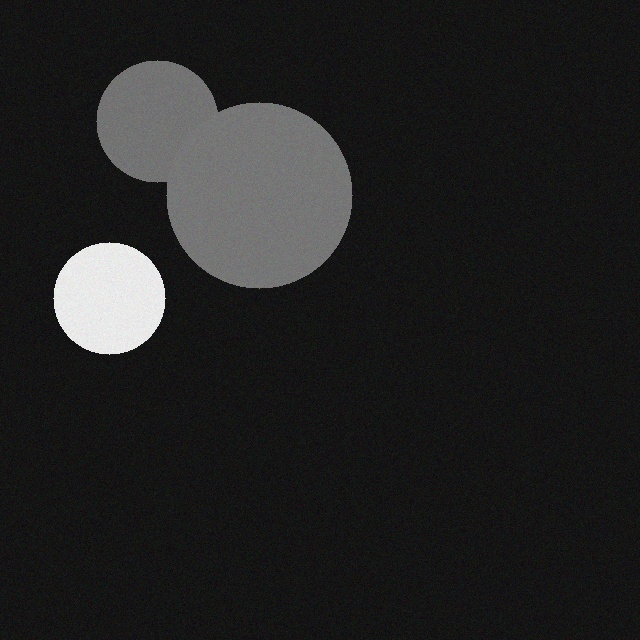circle: (151, 103, 337, 289), (81, 61, 203, 183), (38, 243, 150, 355)
